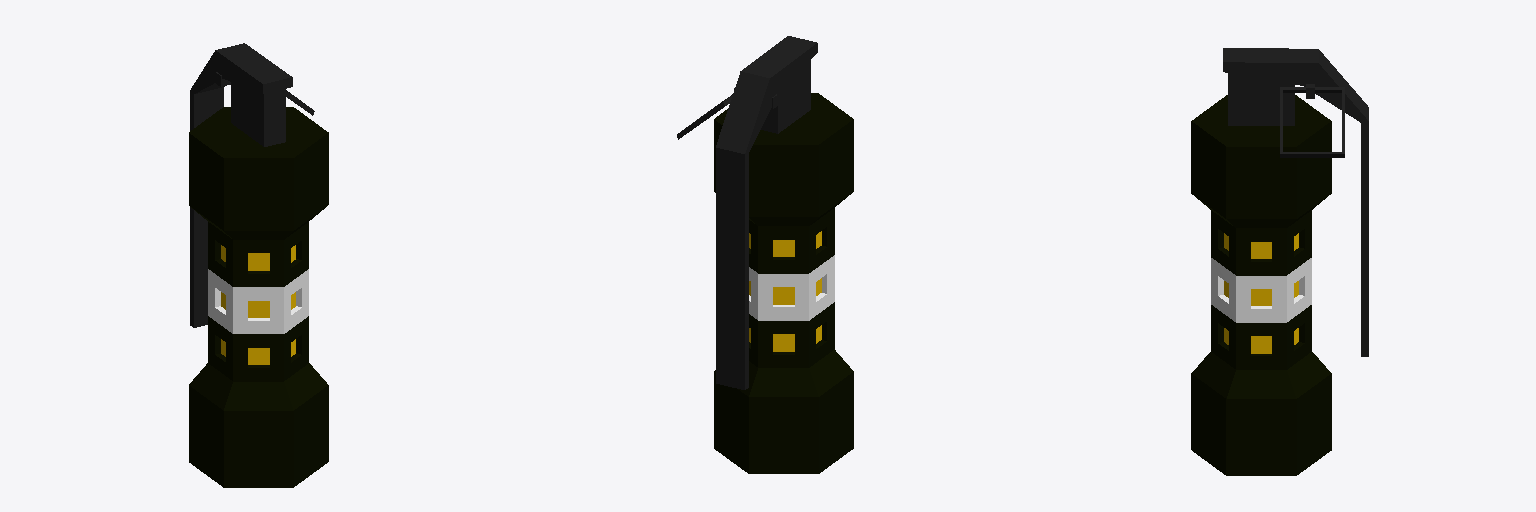
The model's file is Grenade_Flashbang_M84.obj.
3 views of the same model, side by side, from view 1: azimuth 30°, elevation 25°; view 2: azimuth 150°, elevation 25°; view 3: azimuth 270°, elevation 25° (orthographic).
Visible parts, largest first — view 1: Grenade_Flashbang_M84_Cube.016; view 2: Grenade_Flashbang_M84_Cube.016; view 3: Grenade_Flashbang_M84_Cube.016.
Boxes of the visible parts, x1,y1,x2,y2 form: Grenade_Flashbang_M84_Cube.016: [189, 43, 328, 487]; Grenade_Flashbang_M84_Cube.016: [677, 36, 853, 473]; Grenade_Flashbang_M84_Cube.016: [1191, 48, 1368, 475].
Size of the model in its own units: 0.039 by 0.1246 by 0.0506.